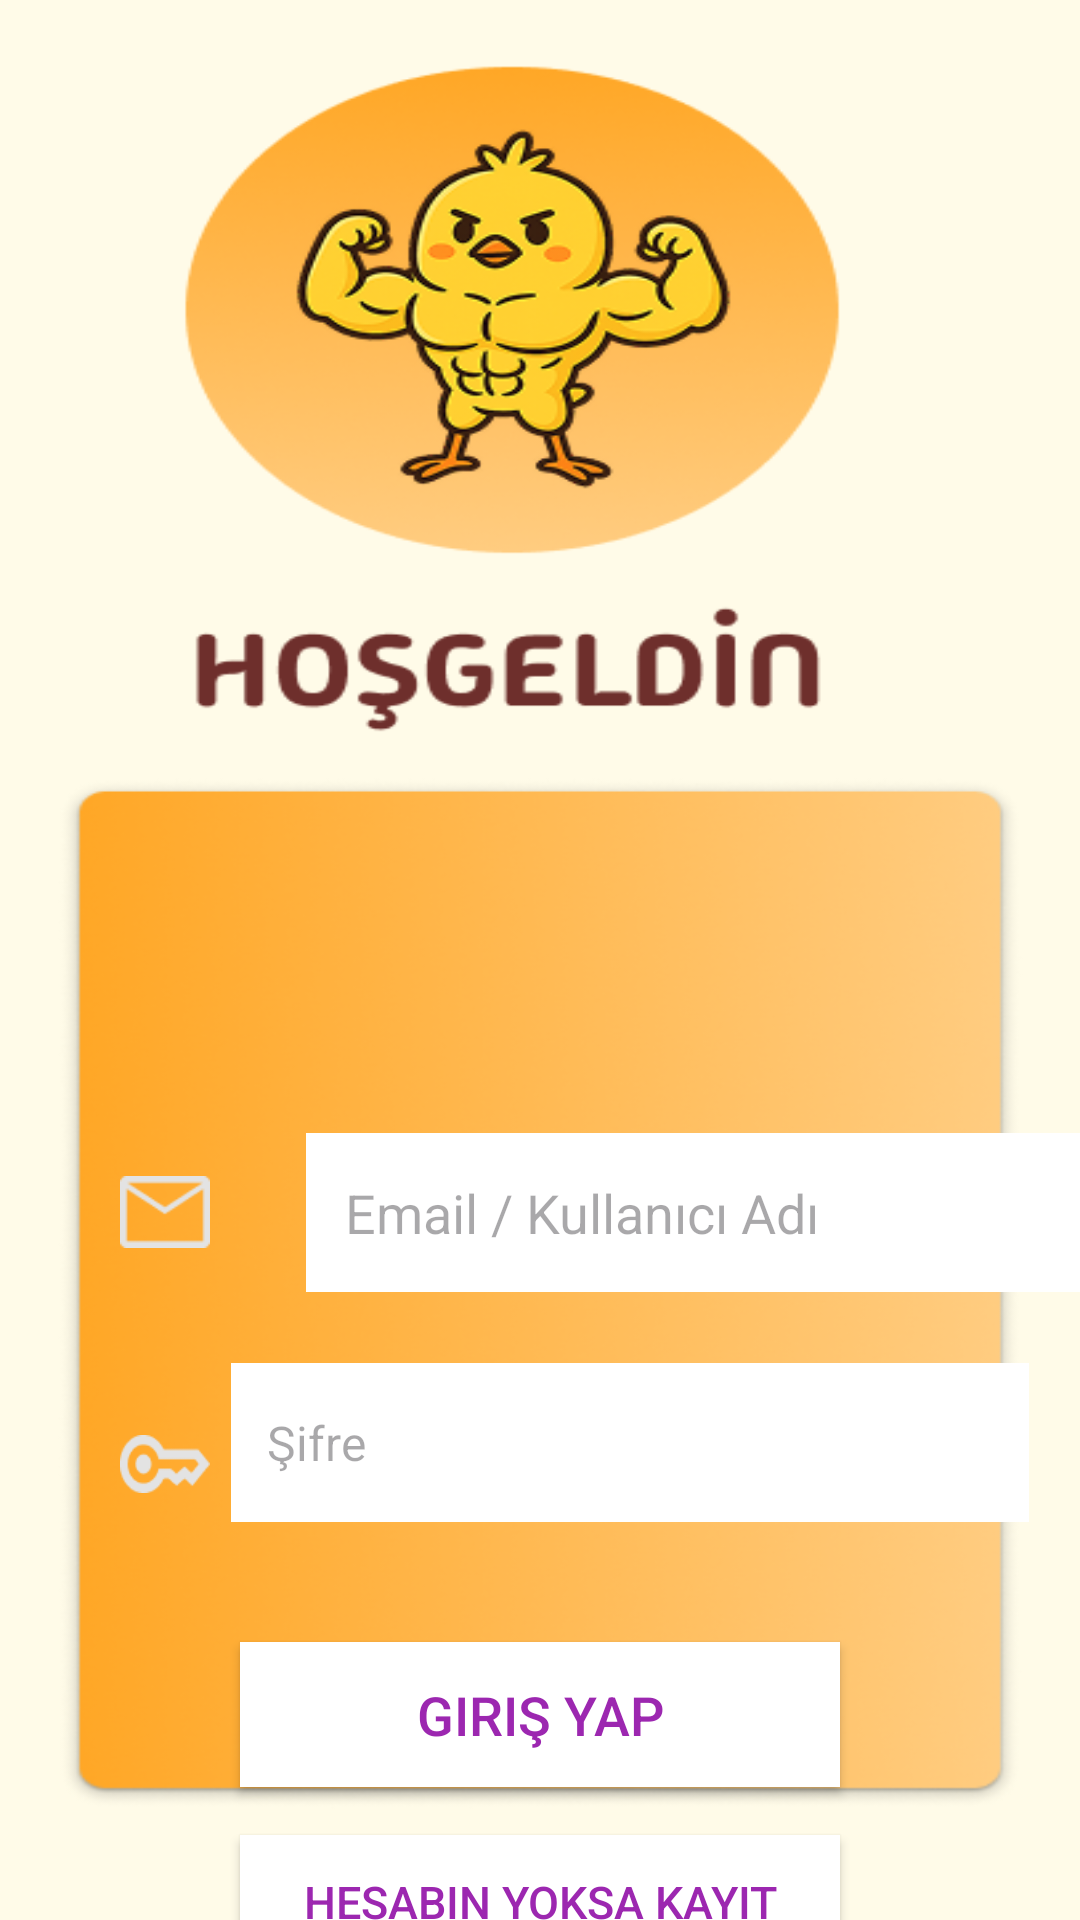

Locate icon controls on the screen. Image size 1080x1920, boxes as (x1, y1, x2, y2).
sifre: (120, 1435, 210, 1493)
